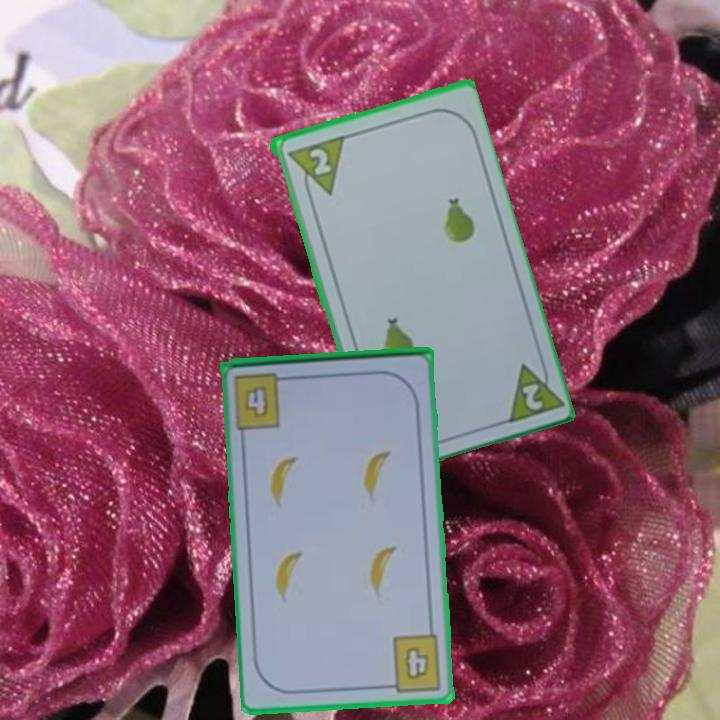2p: (283, 132, 346, 203), (517, 379, 546, 413)
4b: (230, 368, 295, 432), (381, 631, 445, 695)
